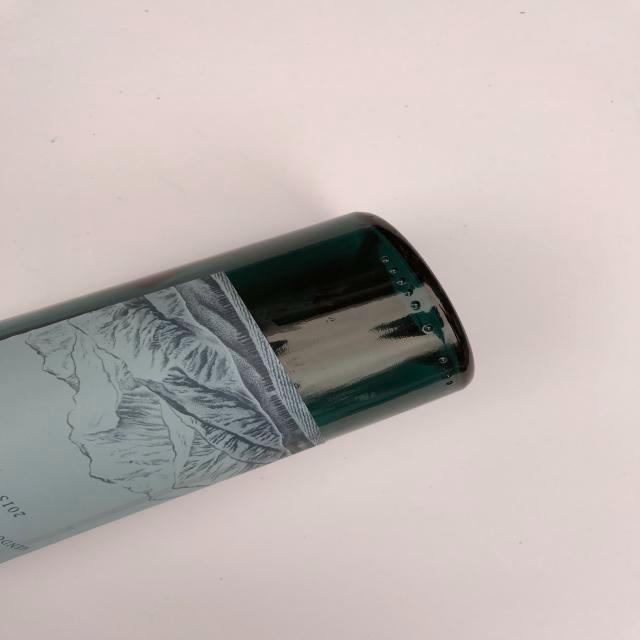glass: (0, 200, 490, 569)
